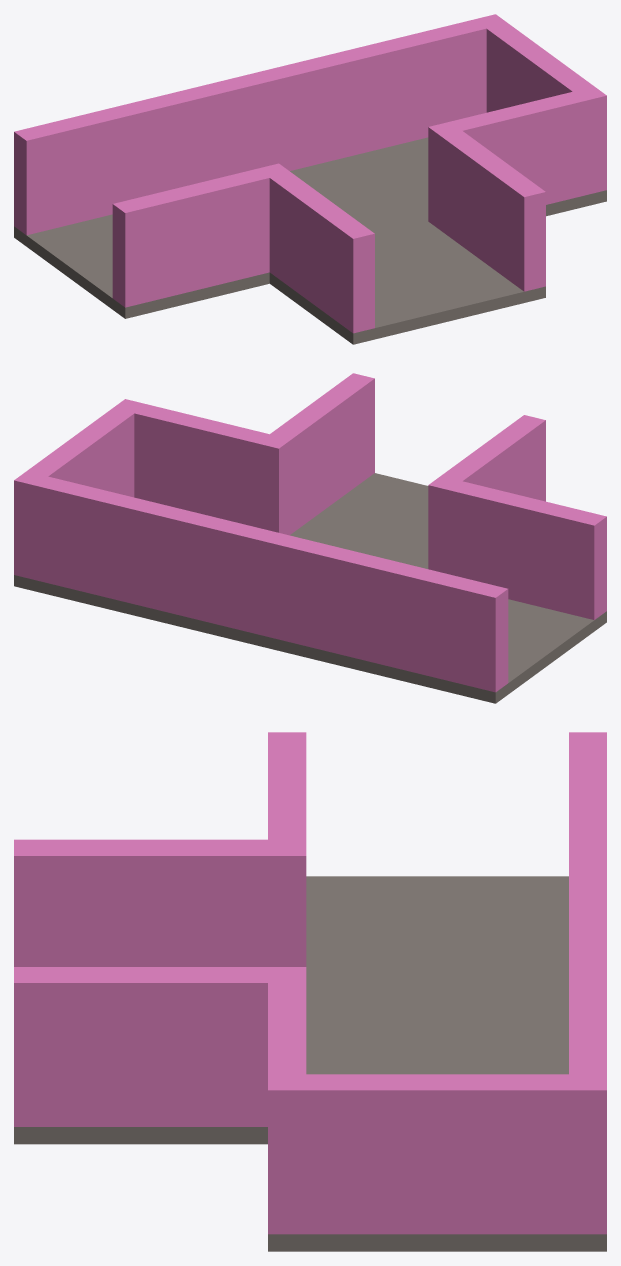
File: T_Way_cap1_sideA.fbx
3 renders of one model, top to bottom at view 1: azimuth 30°, elevation 25°; view 2: azimuth 150°, elevation 25°; view 3: azimuth 270°, elevation 25°, orthographic. The views are drawn at different scales.
Visible parts, largest first — view 1: T_hallWay_cap1_sideA; view 2: T_hallWay_cap1_sideA; view 3: T_hallWay_cap1_sideA.
Boxes of the visible parts, x1,y1,x2,y2 form: T_hallWay_cap1_sideA: (14,14,606,344); T_hallWay_cap1_sideA: (14,373,606,703); T_hallWay_cap1_sideA: (14,732,606,1251).
Bounding box in the file's own units: 2000 × 420 × 1400.
